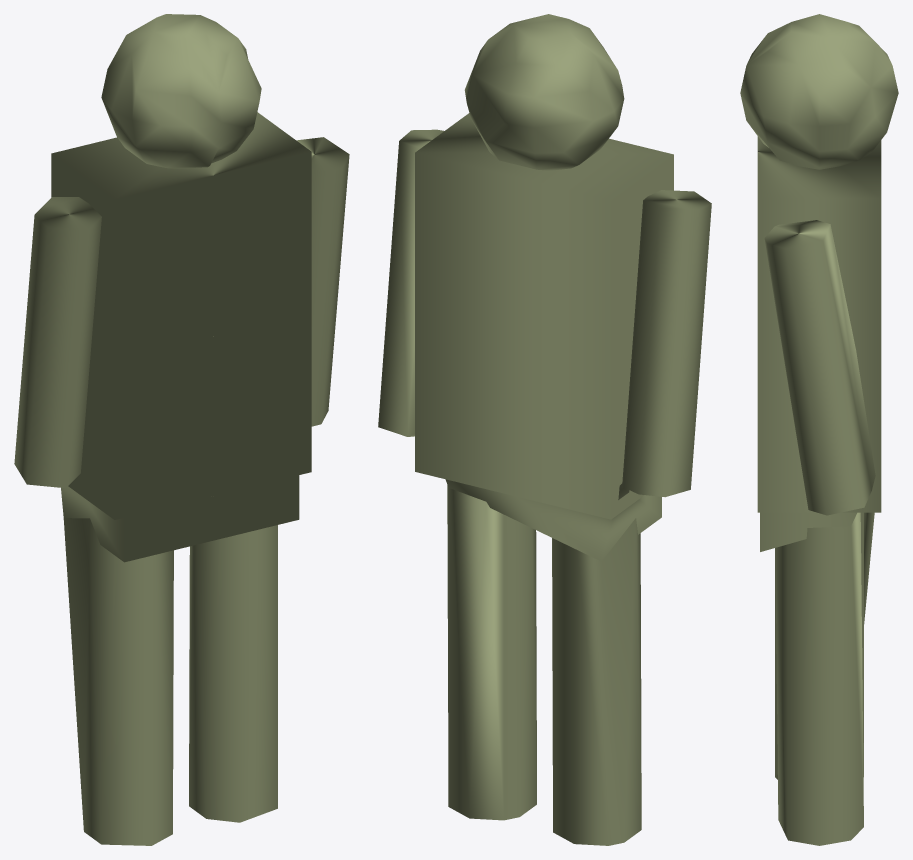
The model's file is trooper.lod1.glb.
The picture shows the model from 3 angles, left to right: view 1: azimuth 30°, elevation 25°; view 2: azimuth 150°, elevation 25°; view 3: azimuth 270°, elevation 25°; orthographic projection. The views are drawn at different scales.
Size of the model in its own units: 0.6893 by 1.73 by 0.32.
